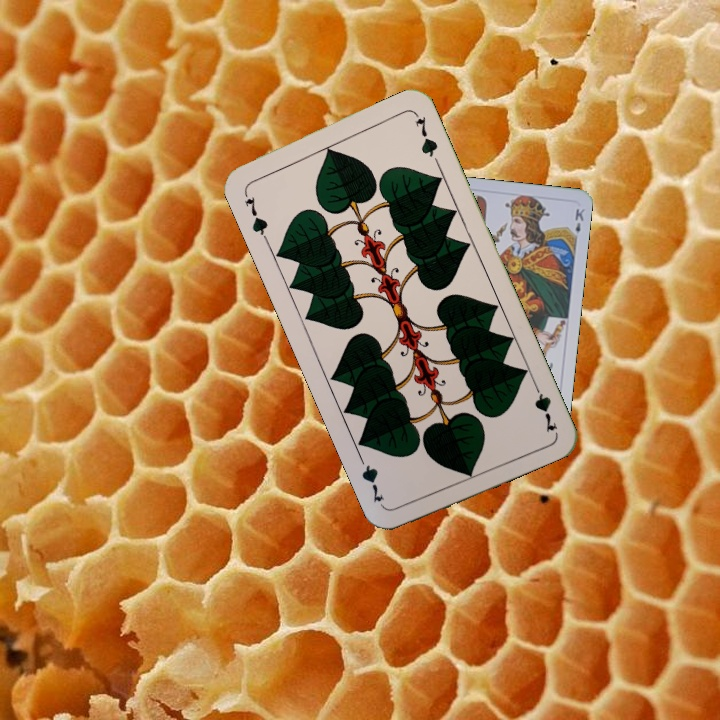G7: (528, 377, 560, 435), (239, 186, 271, 243)
